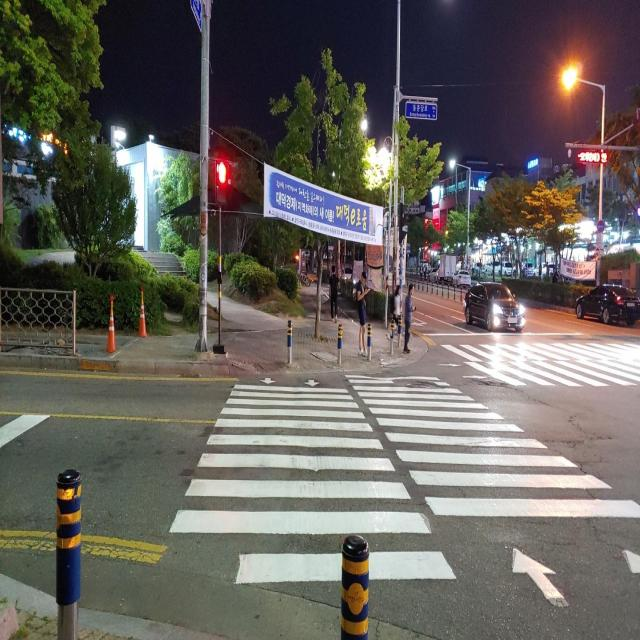빨간불: (215, 160, 232, 209)
횡단보도: (166, 366, 640, 610), (445, 335, 640, 395)
